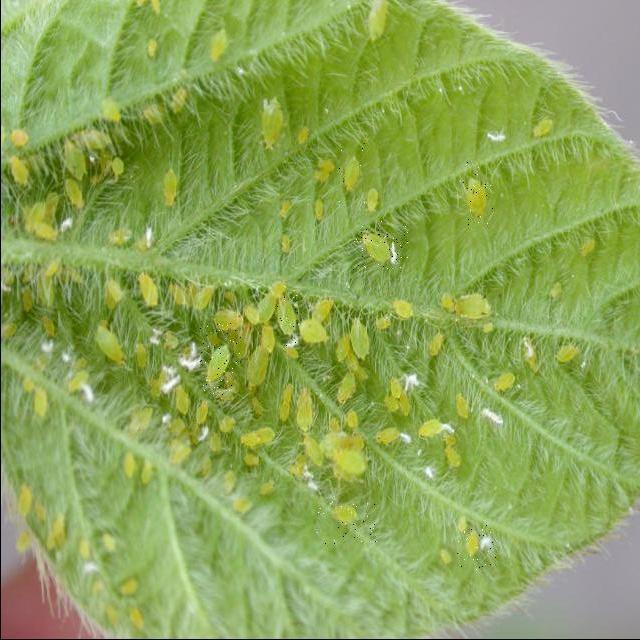aphid: (198, 323, 240, 406), (352, 220, 408, 271), (316, 502, 376, 545), (461, 161, 495, 226), (455, 521, 495, 571), (335, 142, 365, 204), (276, 285, 298, 351), (95, 323, 126, 364), (122, 450, 155, 488), (260, 98, 284, 148), (454, 293, 492, 320), (334, 448, 368, 478), (63, 140, 86, 182), (367, 1, 390, 41), (298, 317, 329, 345), (128, 404, 154, 436), (350, 318, 370, 359), (257, 290, 279, 326), (138, 272, 159, 308), (296, 388, 313, 432), (303, 434, 325, 468), (212, 308, 242, 332), (337, 371, 357, 405), (68, 369, 92, 397), (194, 285, 216, 313), (163, 168, 179, 206), (417, 418, 445, 439), (210, 31, 228, 63), (100, 96, 122, 122), (106, 278, 124, 309), (492, 371, 516, 394), (375, 426, 401, 446), (556, 344, 580, 364), (532, 117, 554, 138), (34, 387, 48, 419), (176, 386, 190, 416), (428, 332, 443, 358), (456, 393, 470, 420), (119, 578, 139, 596), (233, 496, 252, 514), (580, 238, 596, 257)
